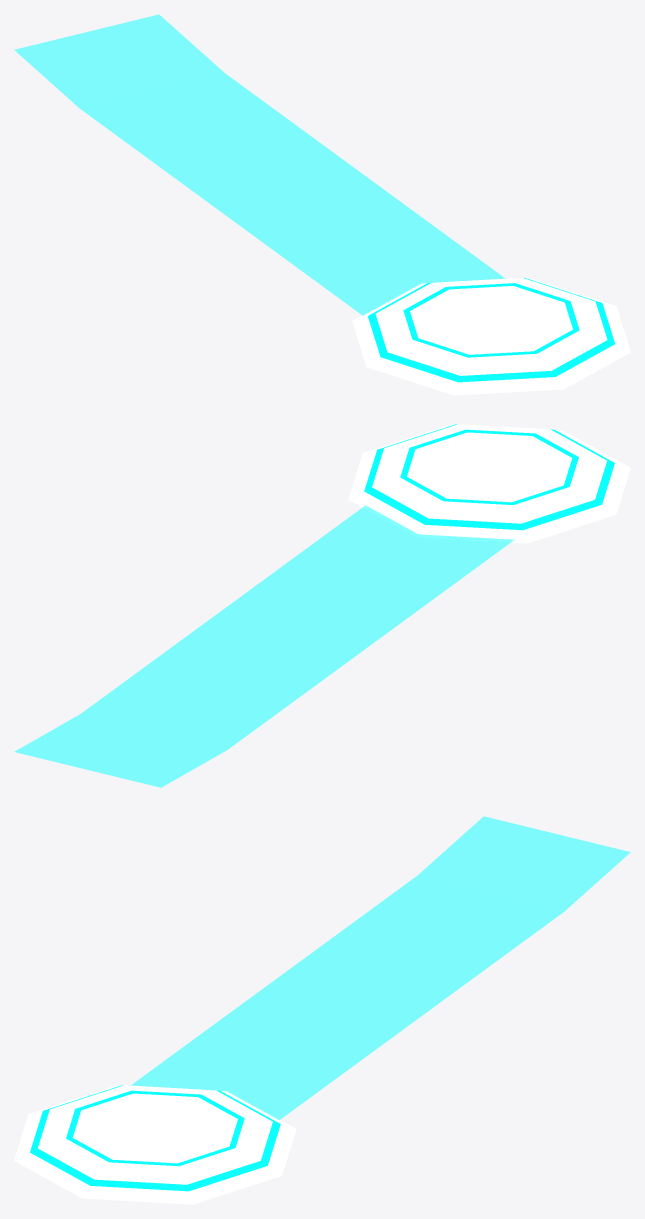
The model's file is pyramidPedestal.gltf.
3 views of the same model, one above another, from view 1: azimuth 30°, elevation 25°; view 2: azimuth 150°, elevation 25°; view 3: azimuth 330°, elevation 25° (orthographic).
Parts seen in each view (by area): view 1: pedestalPath, pedestal; view 2: pedestalPath, pedestal; view 3: pedestalPath, pedestal.
Boxes of the visible parts, x1,y1,x2,y2 form: pedestalPath: (14, 14, 504, 315); pedestal: (352, 277, 630, 395); pedestalPath: (14, 505, 513, 787); pedestal: (348, 424, 630, 543); pedestalPath: (131, 816, 630, 1119); pedestal: (14, 1085, 296, 1204).
Size of what is drawn, in the model's own units: 5.85 by 0.3642 by 19.17.
